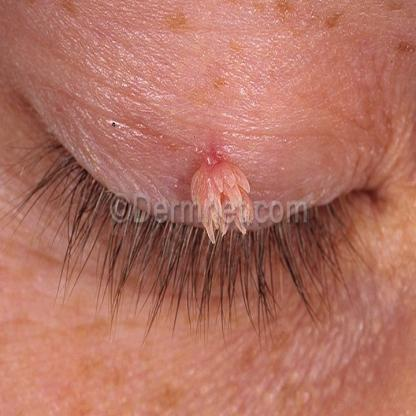Warts: (188, 144, 258, 200)
